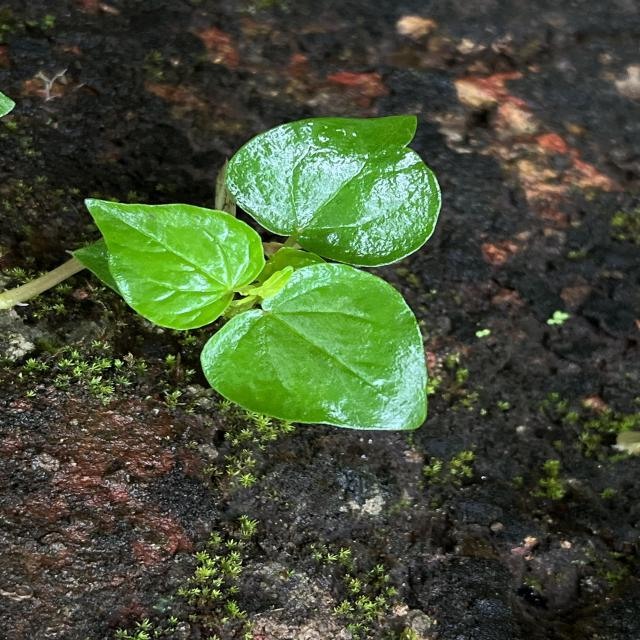Peperomia pellucida: (198, 260, 431, 433), (224, 113, 444, 268), (82, 196, 267, 332)
